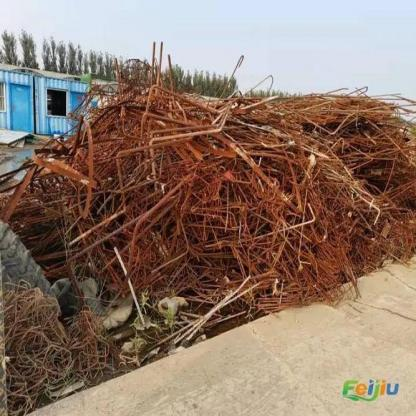rebar: (0, 54, 415, 415)
